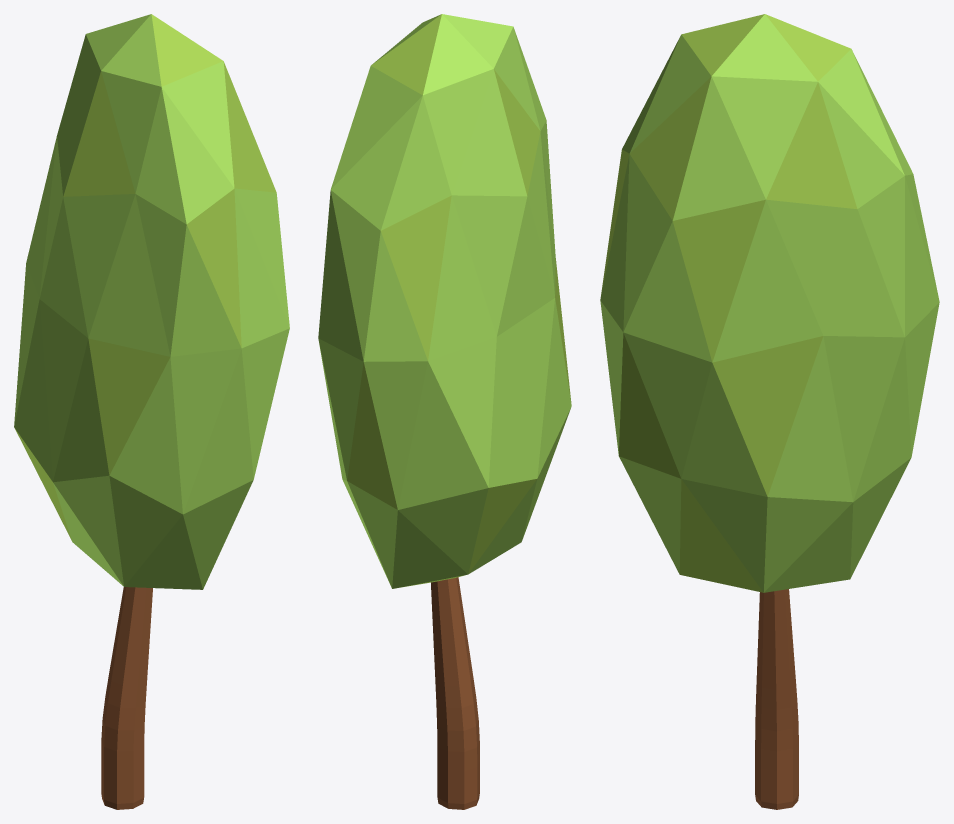
The model's file is SimpleWood.fbx.
3 views of the same model, side by side, from view 1: azimuth 30°, elevation 25°; view 2: azimuth 150°, elevation 25°; view 3: azimuth 270°, elevation 25° (orthographic). The views are drawn at different scales.
Parts seen in each view (by area): view 1: Icosphere.008, Icosphere.009, Cube.003; view 2: Icosphere.008, Icosphere.009, Cube.003; view 3: Icosphere.008, Icosphere.009, Cube.003.
Boxes of the visible parts, x1,y1,x2,y2 form: Icosphere.008: (14,14,289,589); Icosphere.009: (15,14,276,541); Cube.003: (101,587,152,809); Icosphere.008: (318,14,571,588); Icosphere.009: (347,14,571,588); Cube.003: (431,577,479,809); Icosphere.008: (600,14,939,592); Icosphere.009: (600,14,857,592); Cube.003: (755,589,798,809).
Bounding box in the file's own units: 31.65 × 119 × 45.76.
